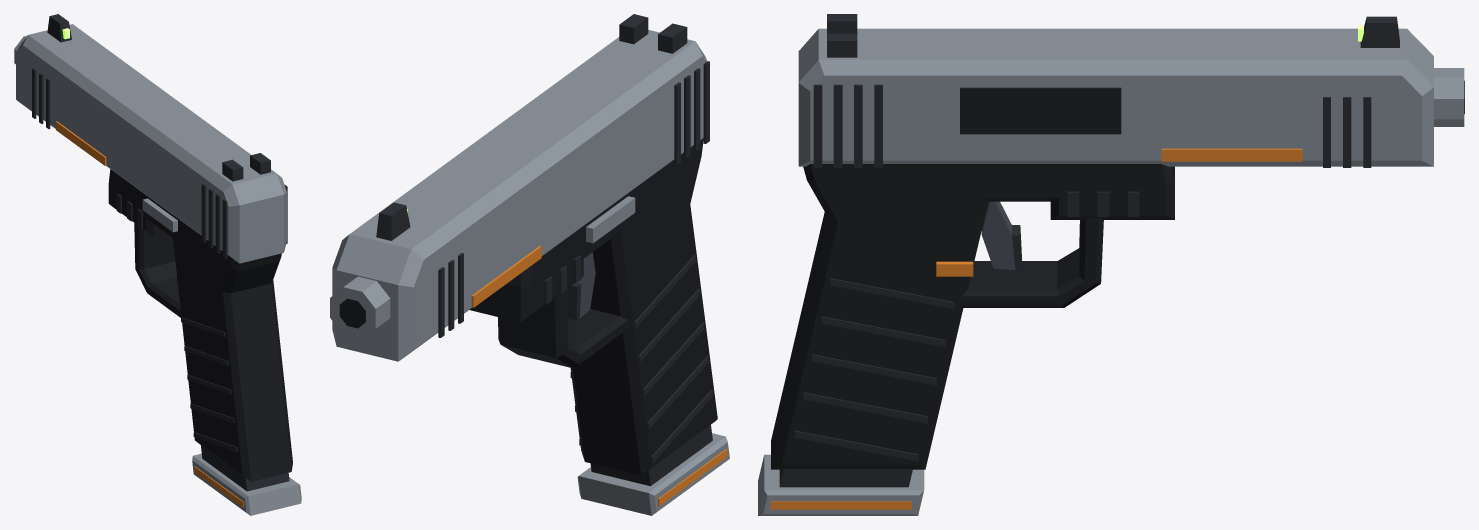
File: pistol.glb
3 views of the same model, side by side, from view 1: azimuth 30°, elevation 25°; view 2: azimuth 150°, elevation 25°; view 3: azimuth 270°, elevation 25° (orthographic). The views are drawn at different scales.
Parts seen in each view (by area): view 1: Slide, Body, Magazine; view 2: Slide, Body, Magazine, Trigger; view 3: Slide, Body, Magazine, Trigger.
Part boxes in pixels (x1,y1,x2,y2): Slide: (14,14,287,263); Body: (108,169,292,481); Magazine: (192,445,301,515); Slide: (330,14,709,361); Body: (469,138,717,475); Magazine: (577,424,729,515); Trigger: (567,252,595,320); Slide: (798,14,1464,167); Body: (771,164,1174,469); Magazine: (758,454,924,515); Trigger: (981,201,1021,270).
Size of the model in its own units: 0.0306 by 0.157 by 0.2102.
